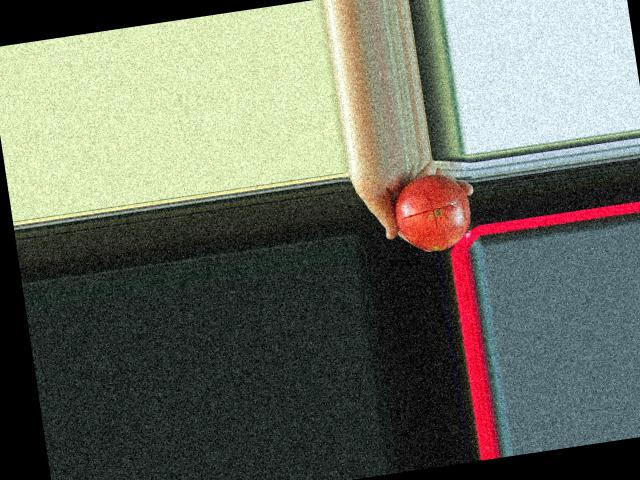tomato: (390, 168, 476, 255)
